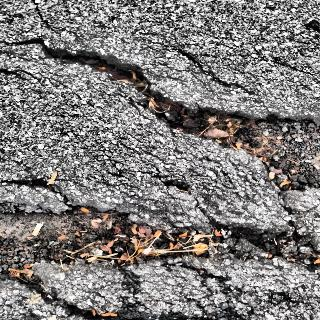crack: (15, 21, 306, 312)
